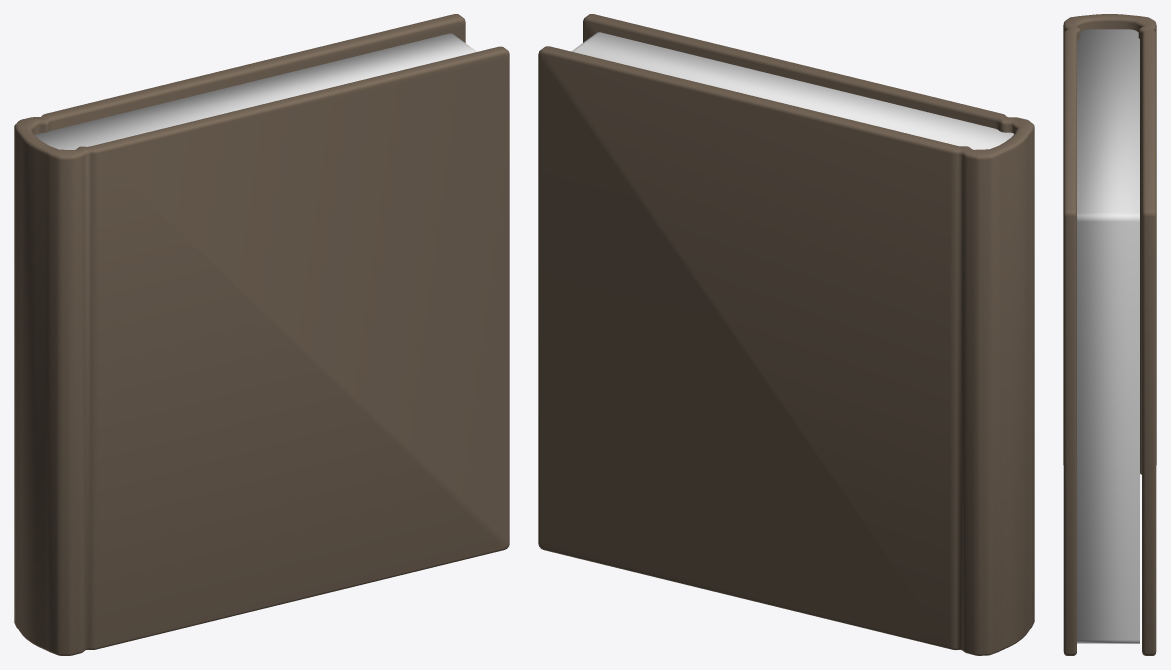
File: book1.fbx
3 renders of one model, left to right at view 1: azimuth 30°, elevation 25°; view 2: azimuth 150°, elevation 25°; view 3: azimuth 270°, elevation 25°, orthographic. The views are drawn at different scales.
Parts seen in each view (by area): view 1: Cube.021; view 2: Cube.021; view 3: Cube.021.
Boxes of the visible parts, <box> form: Cube.021: <box>14,14,509,655</box>; Cube.021: <box>538,14,1034,655</box>; Cube.021: <box>1063,14,1156,655</box>.
Bounding box in the file's own units: 382 × 399 × 75.47.
